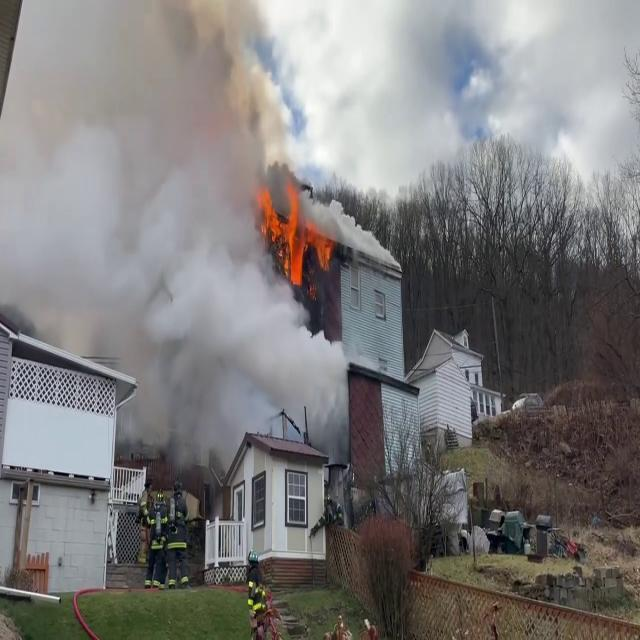Fire: (256, 178, 337, 287)
Smoke: (0, 0, 342, 454)
